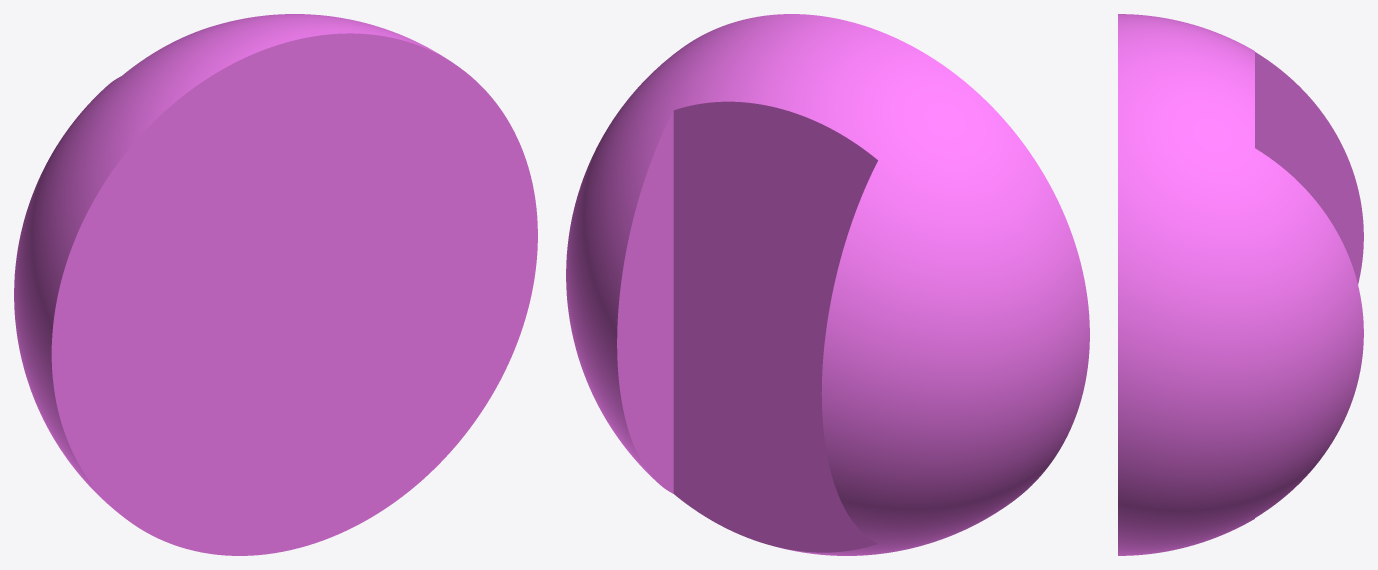
The picture shows the model from 3 angles, left to right: view 1: azimuth 30°, elevation 25°; view 2: azimuth 150°, elevation 25°; view 3: azimuth 270°, elevation 25°; orthographic projection. The views are drawn at different scales.
Parts seen in each view (by area): view 1: 拉伸1; view 2: 拉伸1; view 3: 拉伸1.
Boxes of the visible parts, x1=… form: 拉伸1: x1=14, y1=14, x2=537, y2=555; 拉伸1: x1=566, y1=14, x2=1089, y2=555; 拉伸1: x1=1118, y1=14, x2=1363, y2=555.
Size of the model in its own units: 4.68 by 4.68 by 2.12.
